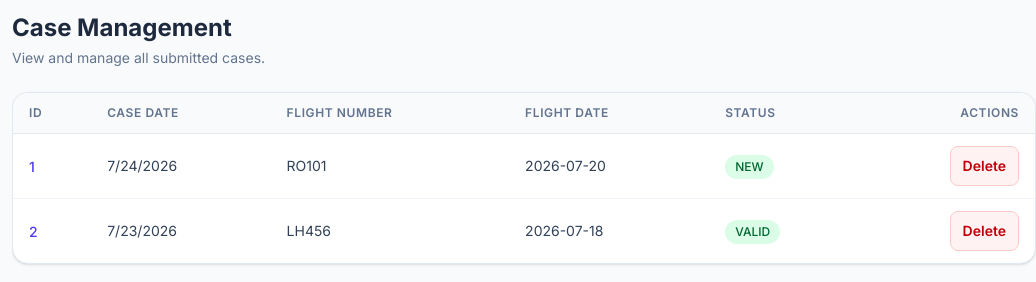
Scenario: CaseManagementPage › shows confirmation on delete click
Expected: the text "RO101" is shown, 271,134 -> 509,198
Click the button "Delete" in the row of "7/24/2026" at point(984, 166), box 950,146 -> 1019,186
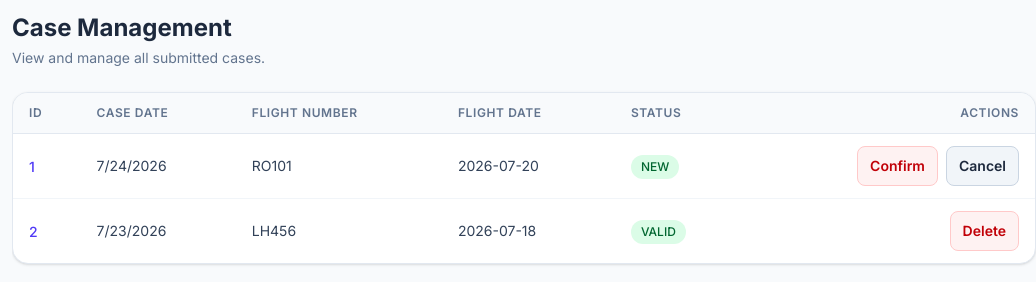
Result: the button "Confirm" is shown at 857,146 -> 938,186
Result: the button "Cancel" is shown at 946,146 -> 1019,186
